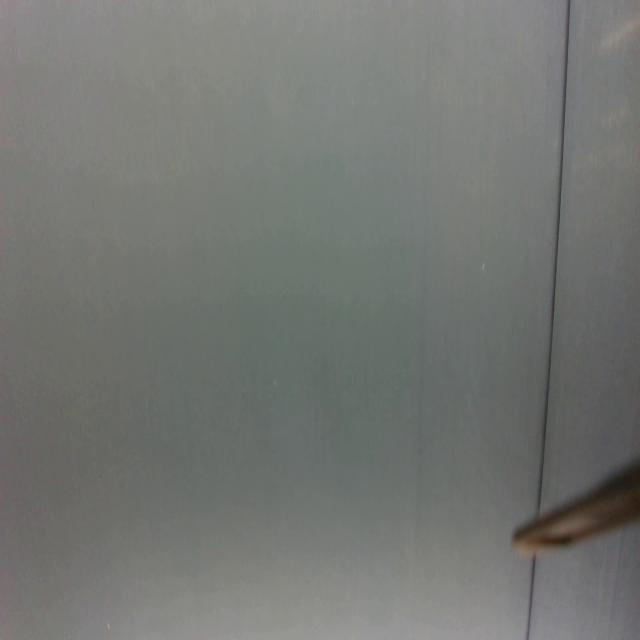crease: (538, 0, 572, 503), (525, 557, 537, 640)
hole: (480, 253, 490, 274), (104, 620, 114, 632)
